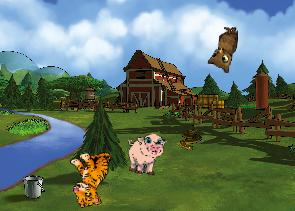owl: (206, 24, 238, 73)
pig: (124, 131, 167, 177)
tiger: (64, 146, 120, 209)
